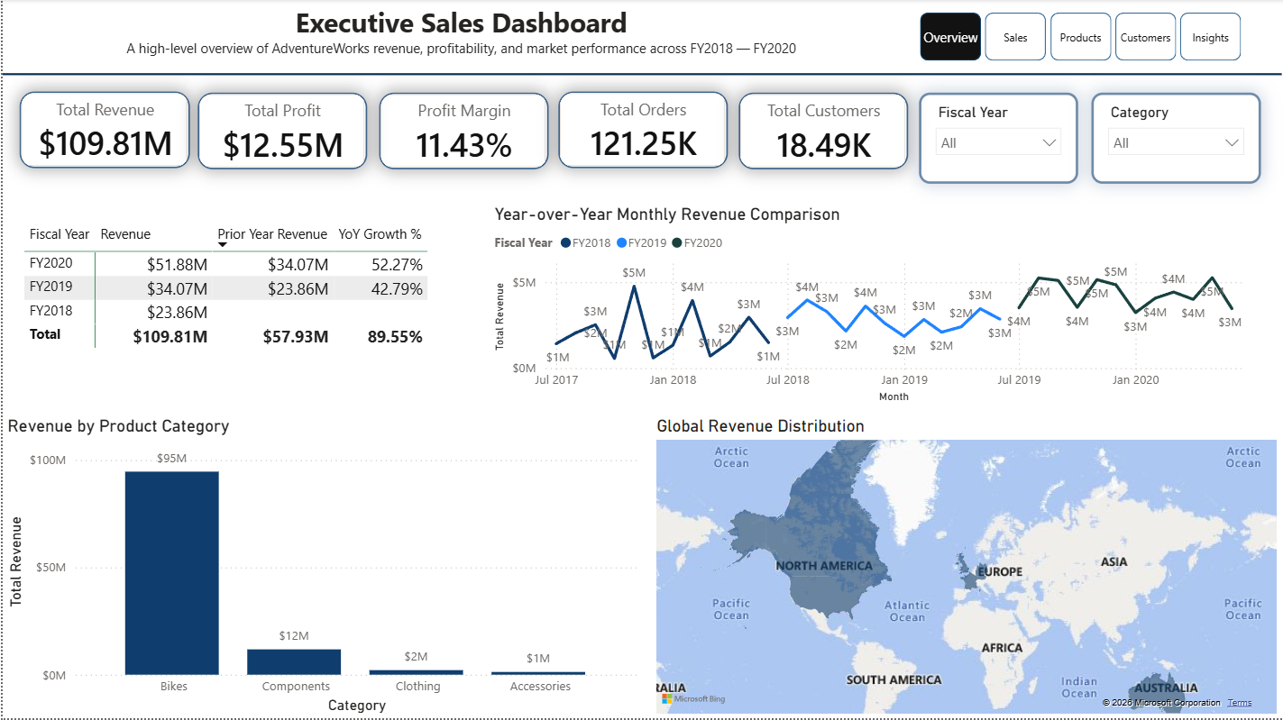

The page's visual inventory and layout, read from the dashboard file:
{"tool":"powerbi","page":{"name":"Overview","canvas":[1280,720],"ordinal":0},"visuals":[{"type":"cardVisual","fields":{"Data":["_Measures.Total Revenue"]},"box":[16.7,92.4,170,77],"z":0},{"type":"cardVisual","fields":{"Data":["_Measures.Profit Margin %"]},"box":[376.2,93.7,169.5,77],"z":1000},{"type":"cardVisual","fields":{"Data":["_Measures.Total Profit"]},"box":[195.1,93.7,169.5,77],"z":2000},{"type":"cardVisual","fields":{"Data":["_Measures.Total Orders"]},"box":[555.9,92.4,169.5,77],"z":3000},{"type":"columnChart","title":"Revenue by Product Category","fields":{"Category":["Product.Category"],"Y":["_Measures.Total Revenue"]},"box":[0,417.3,640.6,303],"z":4000},{"type":"filledMap","title":"Global Revenue Distribution","fields":{"Category":["Customer.Country-Region"]},"box":[649.6,417.3,630.4,303],"z":5000},{"type":"lineChart","title":"Year-over-Year Monthly Revenue Comparison","fields":{"Category":["Date.Month"],"Series":["Date.Fiscal Year"],"Y":["_Measures.Total Revenue"]},"box":[486.6,205.4,771.6,204.1],"z":6000},{"type":"slicer","fields":{"Values":["Date.Fiscal Year"]},"box":[916.7,93.7,159.2,91.2],"z":7000},{"type":"cardVisual","fields":{"Data":["_Measures.Total Customers"]},"box":[735.6,93.7,169.5,77],"z":8000},{"type":"textbox","box":[0,0,917.1,75.8],"z":9000},{"type":"shape","box":[0,58.7,1279.1,33],"z":10000},{"type":"slicer","fields":{"Values":["Product.Category"]},"box":[1088.7,93.7,169.5,91.2],"z":11000},{"type":"pivotTable","fields":{"Values":["_Measures.Total Revenue","_Measures.Sales Revenue PYTD","_Measures.Sales YoY Growth %"],"Rows":["Date.Fiscal Year"]},"box":[16.7,218.3,469.9,154.1],"z":12000},{"type":"bookmarkNavigator","box":[917.1,13.5,325.3,48.9],"z":13000}]}

Visuals, with their boxes in screenshot pixels (x1, y1, x2, y2), scaled from the page's 1280x720 canvas onto the 1283x720 screenshot:
cardVisual - _Measures.Total Revenue: (x1=17, y1=92, x2=187, y2=169)
cardVisual - _Measures.Profit Margin %: (x1=377, y1=94, x2=547, y2=171)
cardVisual - _Measures.Total Profit: (x1=196, y1=94, x2=365, y2=171)
cardVisual - _Measures.Total Orders: (x1=557, y1=92, x2=727, y2=169)
"Revenue by Product Category" columnChart: (x1=0, y1=417, x2=642, y2=719)
"Global Revenue Distribution" filledMap: (x1=651, y1=417, x2=1282, y2=719)
"Year-over-Year Monthly Revenue Comparison" lineChart: (x1=488, y1=205, x2=1261, y2=410)
slicer - Date.Fiscal Year: (x1=919, y1=94, x2=1078, y2=185)
cardVisual - _Measures.Total Customers: (x1=737, y1=94, x2=907, y2=171)
textbox: (x1=0, y1=0, x2=919, y2=76)
shape: (x1=0, y1=59, x2=1282, y2=92)
slicer - Product.Category: (x1=1091, y1=94, x2=1261, y2=185)
pivotTable - _Measures.Total Revenue x _Measures.Sales Revenue PYTD: (x1=17, y1=218, x2=488, y2=372)
bookmarkNavigator: (x1=919, y1=14, x2=1245, y2=62)
